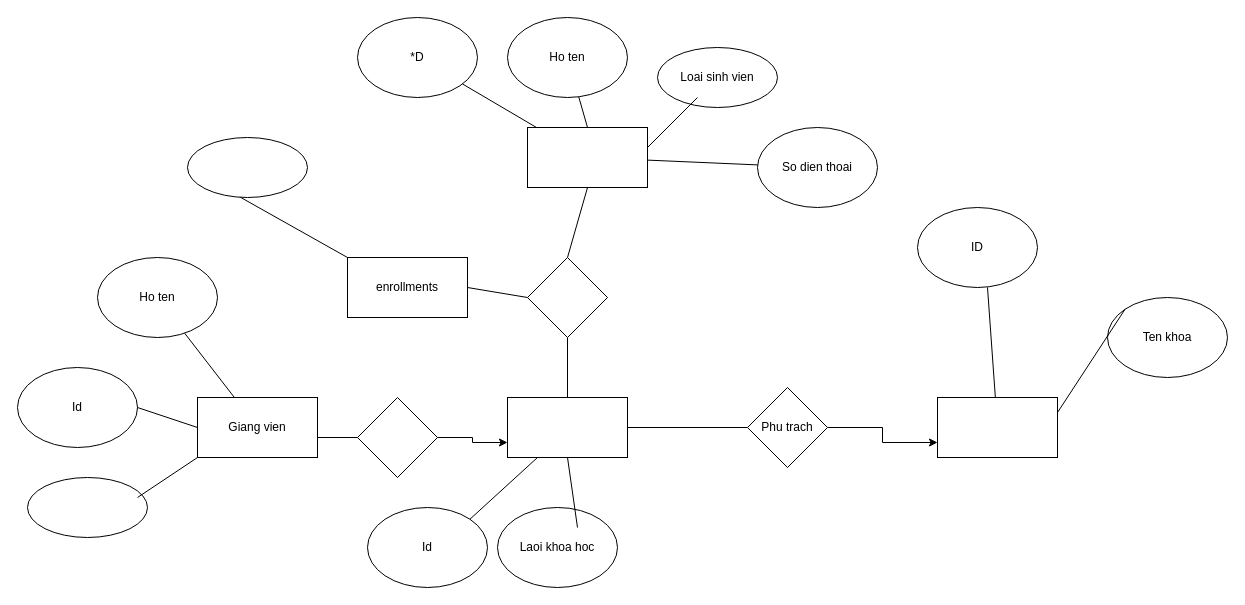
Image size: 1245x605. Some labels were removed from this diagram. The centre of each missing label's shape, as x and y in pixels:
"Day" belongs at point (397, 437).
"Diem" belongs at point (247, 167).
"Hoc" belongs at point (567, 297).
"Khoa" belongs at point (997, 427).
"Khoa hoc" belongs at point (567, 427).
"Sinh vien" belongs at point (587, 157).
"Tuoi" belongs at point (87, 507).
